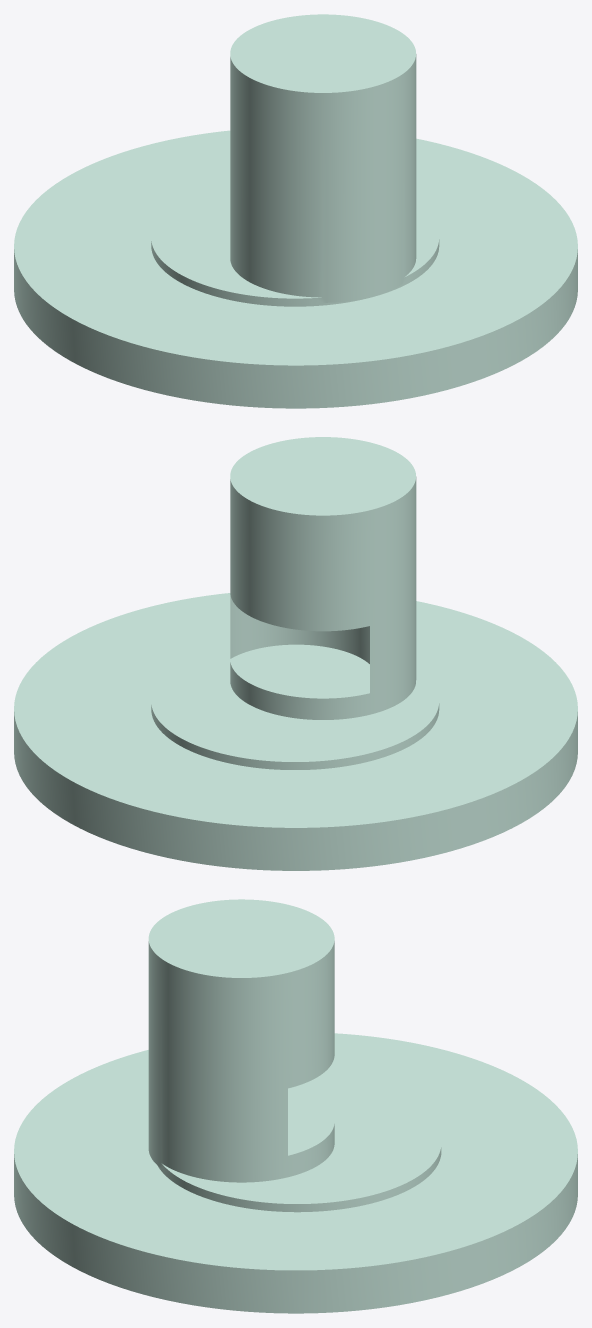
3 views of the same model, one above another, from view 1: azimuth 30°, elevation 25°; view 2: azimuth 150°, elevation 25°; view 3: azimuth 270°, elevation 25° (orthographic).
Parts seen in each view (by area): view 1: Renderer Node; view 2: Renderer Node; view 3: Renderer Node.
Part boxes in pixels (left/top/right/bottom): Renderer Node: left=14, top=14, right=577, bottom=408; Renderer Node: left=14, top=437, right=577, bottom=870; Renderer Node: left=14, top=899, right=577, bottom=1313.
Size of the model in its own units: 1.48 by 0.7422 by 1.48.
